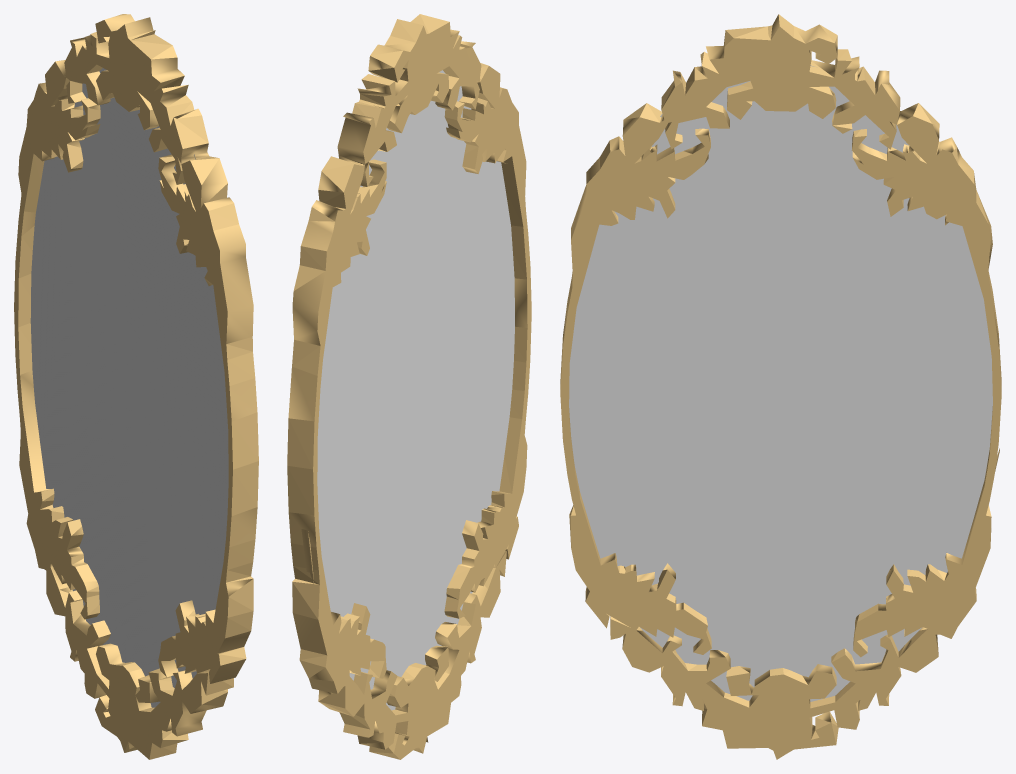
The model's file is mirror.glb.
3 views of the same model, side by side, from view 1: azimuth 30°, elevation 25°; view 2: azimuth 150°, elevation 25°; view 3: azimuth 270°, elevation 25° (orthographic).
Visible parts, largest first — view 1: Mirror, Cylinder; view 2: Mirror, Cylinder; view 3: Mirror, Cylinder.
Part boxes in pixels (box(x1,y1,x2,y2)): Mirror: box(30, 68, 228, 707); Cylinder: box(14, 14, 258, 759); Mirror: box(317, 70, 514, 710); Cylinder: box(287, 14, 531, 759); Mirror: box(569, 65, 992, 701); Cylinder: box(560, 14, 1001, 759).
Size of the model in its own units: 0.0606 by 1.63 by 0.8874.
